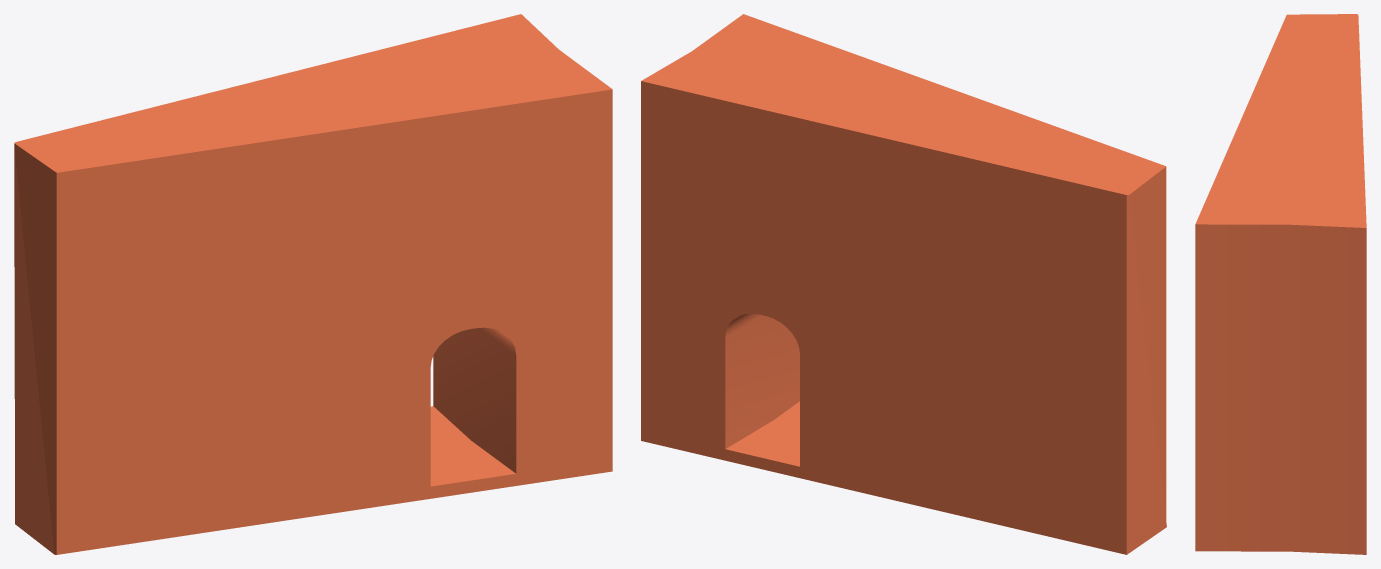
Rendered from weadge.fbx.
The picture shows the model from 3 angles, left to right: view 1: azimuth 30°, elevation 25°; view 2: azimuth 150°, elevation 25°; view 3: azimuth 270°, elevation 25°; orthographic projection. The views are drawn at different scales.
Parts seen in each view (by area): view 1: wall_1.005; view 2: wall_1.005; view 3: wall_1.005.
Boxes of the visible parts, x1,y1,x2,y2 form: wall_1.005: (14,14,612,554); wall_1.005: (641,14,1166,554); wall_1.005: (1195,14,1366,554).
Size of the model in its own units: 253 by 180 by 85.75.
